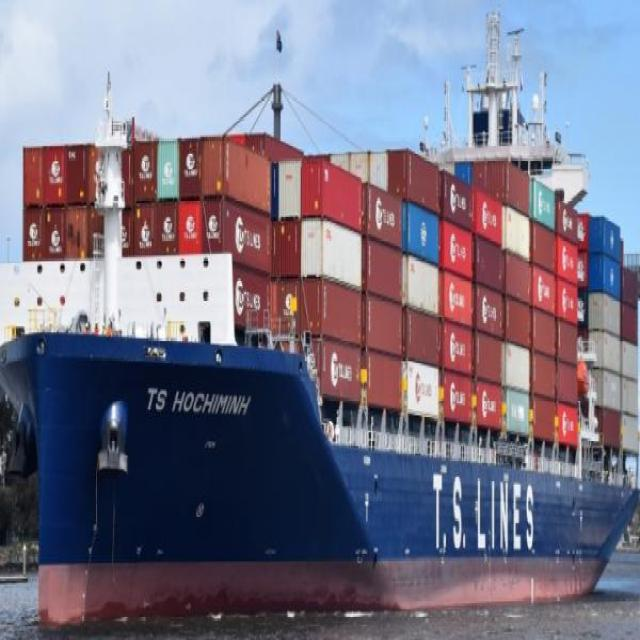Container Ship: (2, 18, 636, 631)
